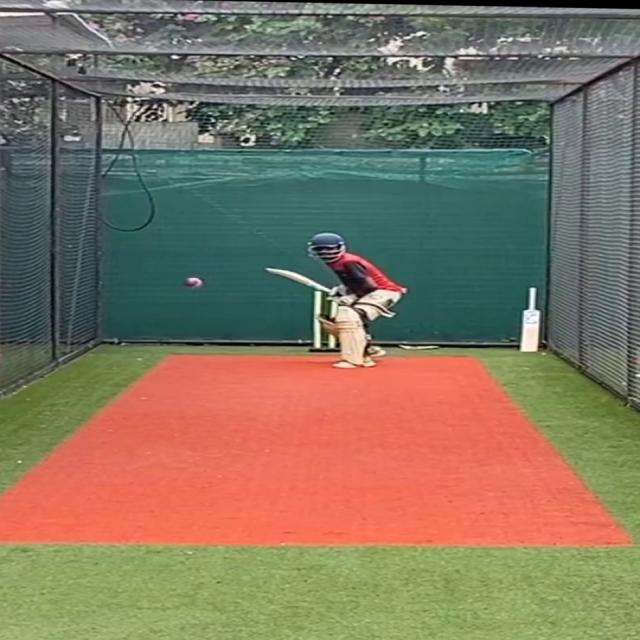ball: (177, 271, 206, 291)
stump: (303, 287, 339, 355)
